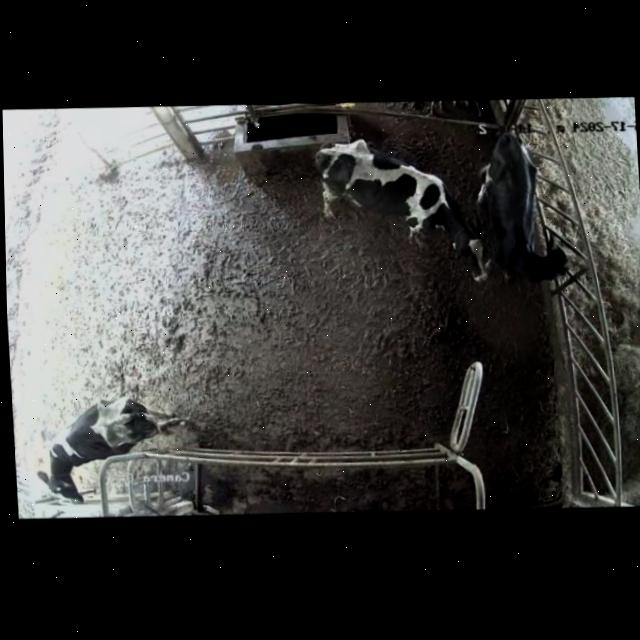stand: (314, 123, 487, 306), (33, 361, 209, 511), (479, 128, 574, 298)
